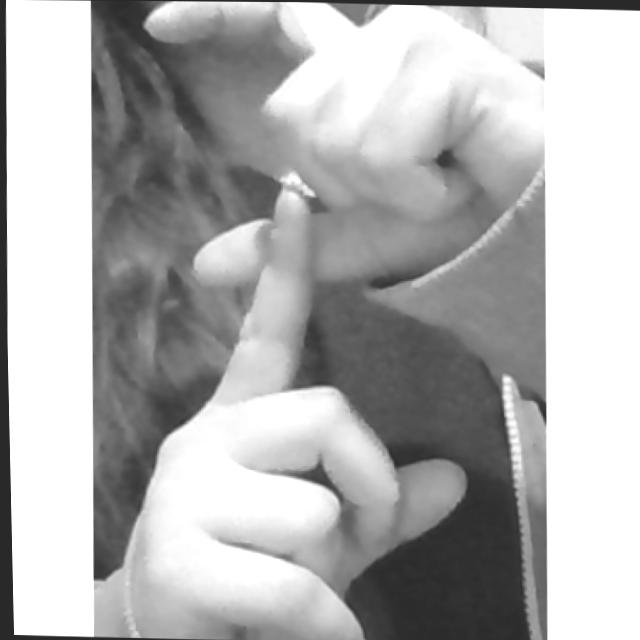C_: (113, 1, 555, 640)
